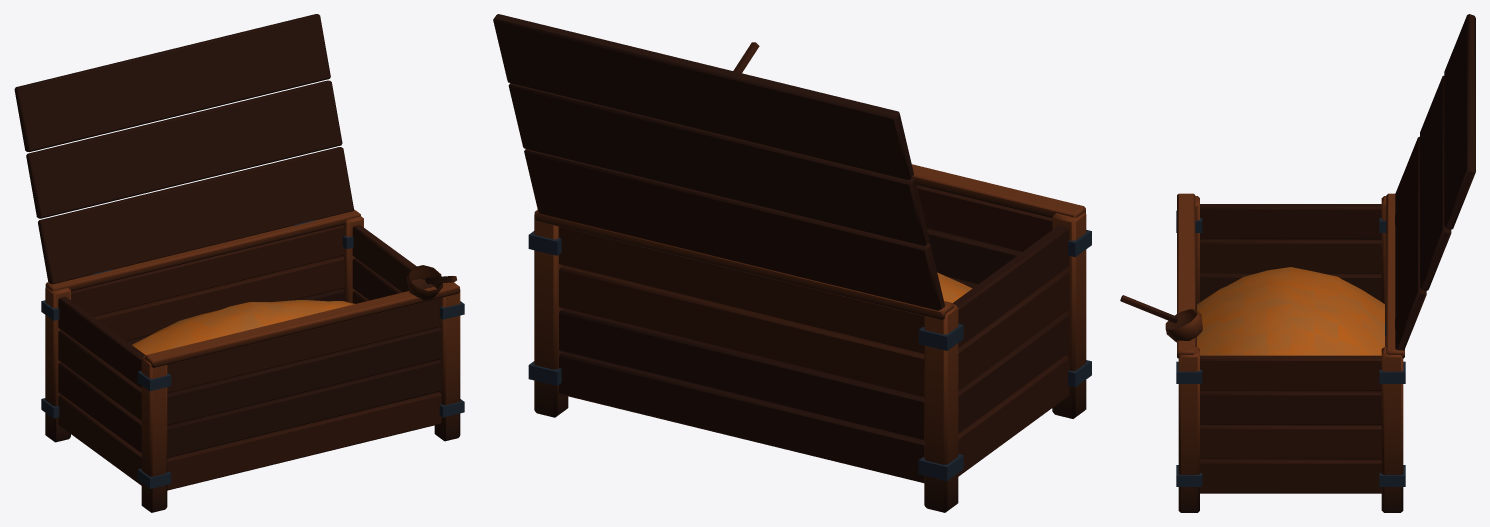
File: Ekim_Sandigi.fbx
3 views of the same model, side by side, from view 1: azimuth 30°, elevation 25°; view 2: azimuth 150°, elevation 25°; view 3: azimuth 270°, elevation 25° (orthographic). The views are drawn at different scales.
Visible parts, largest first — view 1: SM_Ekim_Sandigi, Ekim_Sandigi_Tohum; view 2: SM_Ekim_Sandigi; view 3: SM_Ekim_Sandigi, Ekim_Sandigi_Tohum.
Part boxes in pixels (box(x1,y1,x2,y2)): SM_Ekim_Sandigi: box(14, 14, 464, 512); Ekim_Sandigi_Tohum: box(132, 300, 354, 354); SM_Ekim_Sandigi: box(493, 14, 1091, 512); SM_Ekim_Sandigi: box(1120, 14, 1475, 512); Ekim_Sandigi_Tohum: box(1197, 267, 1384, 355).
Bounding box in the file's own units: 1.25 × 1.23 × 1.16.
